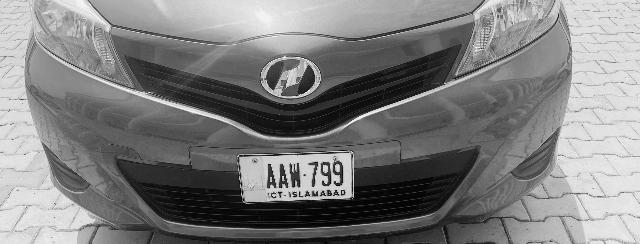Number: (267, 162, 343, 188)
